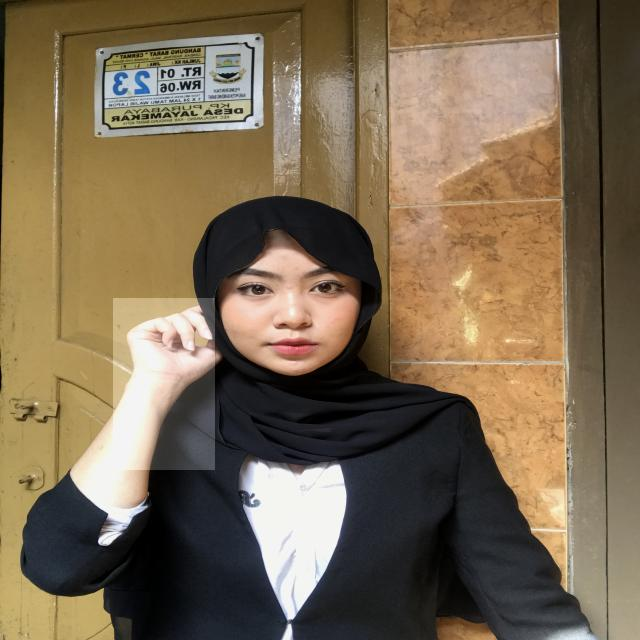ibu: (113, 298, 215, 471)
